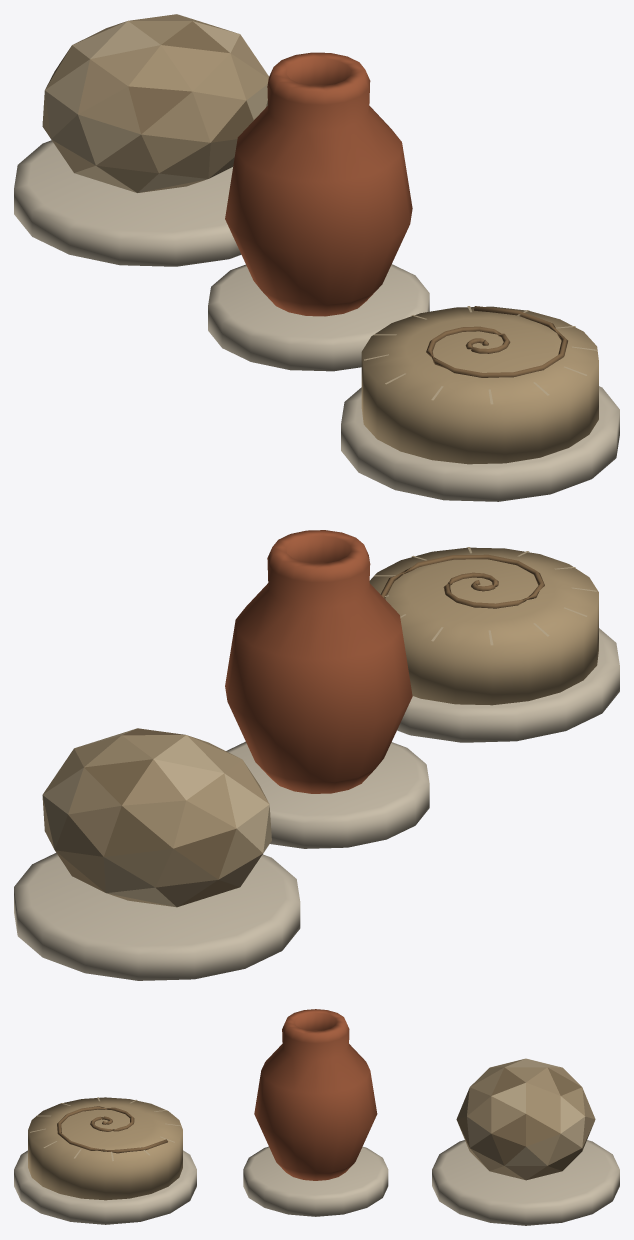
Rendered from case_exhibits_2.glb.
3 views of the same model, one above another, from view 1: azimuth 30°, elevation 25°; view 2: azimuth 150°, elevation 25°; view 3: azimuth 270°, elevation 25° (orthographic). The views are drawn at different scales.
Visible parts, largest first — view 1: Body; view 2: Body; view 3: Body.
Boxes of the visible parts, <box> form: Body: <box>14,14,619,501</box>; Body: <box>14,530,619,980</box>; Body: <box>14,1009,619,1225</box>.
Bounding box in the file's own units: 0.4917 × 0.48 × 1.59.
